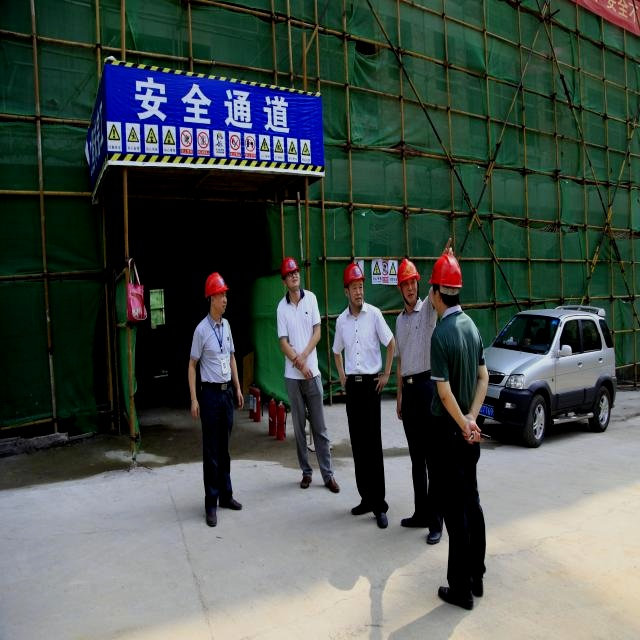Con_Casco: (397, 260, 419, 303), (204, 272, 227, 312), (345, 264, 365, 303)
Sin_Chaleco: (280, 292, 319, 376), (339, 307, 381, 378), (200, 318, 231, 386)
